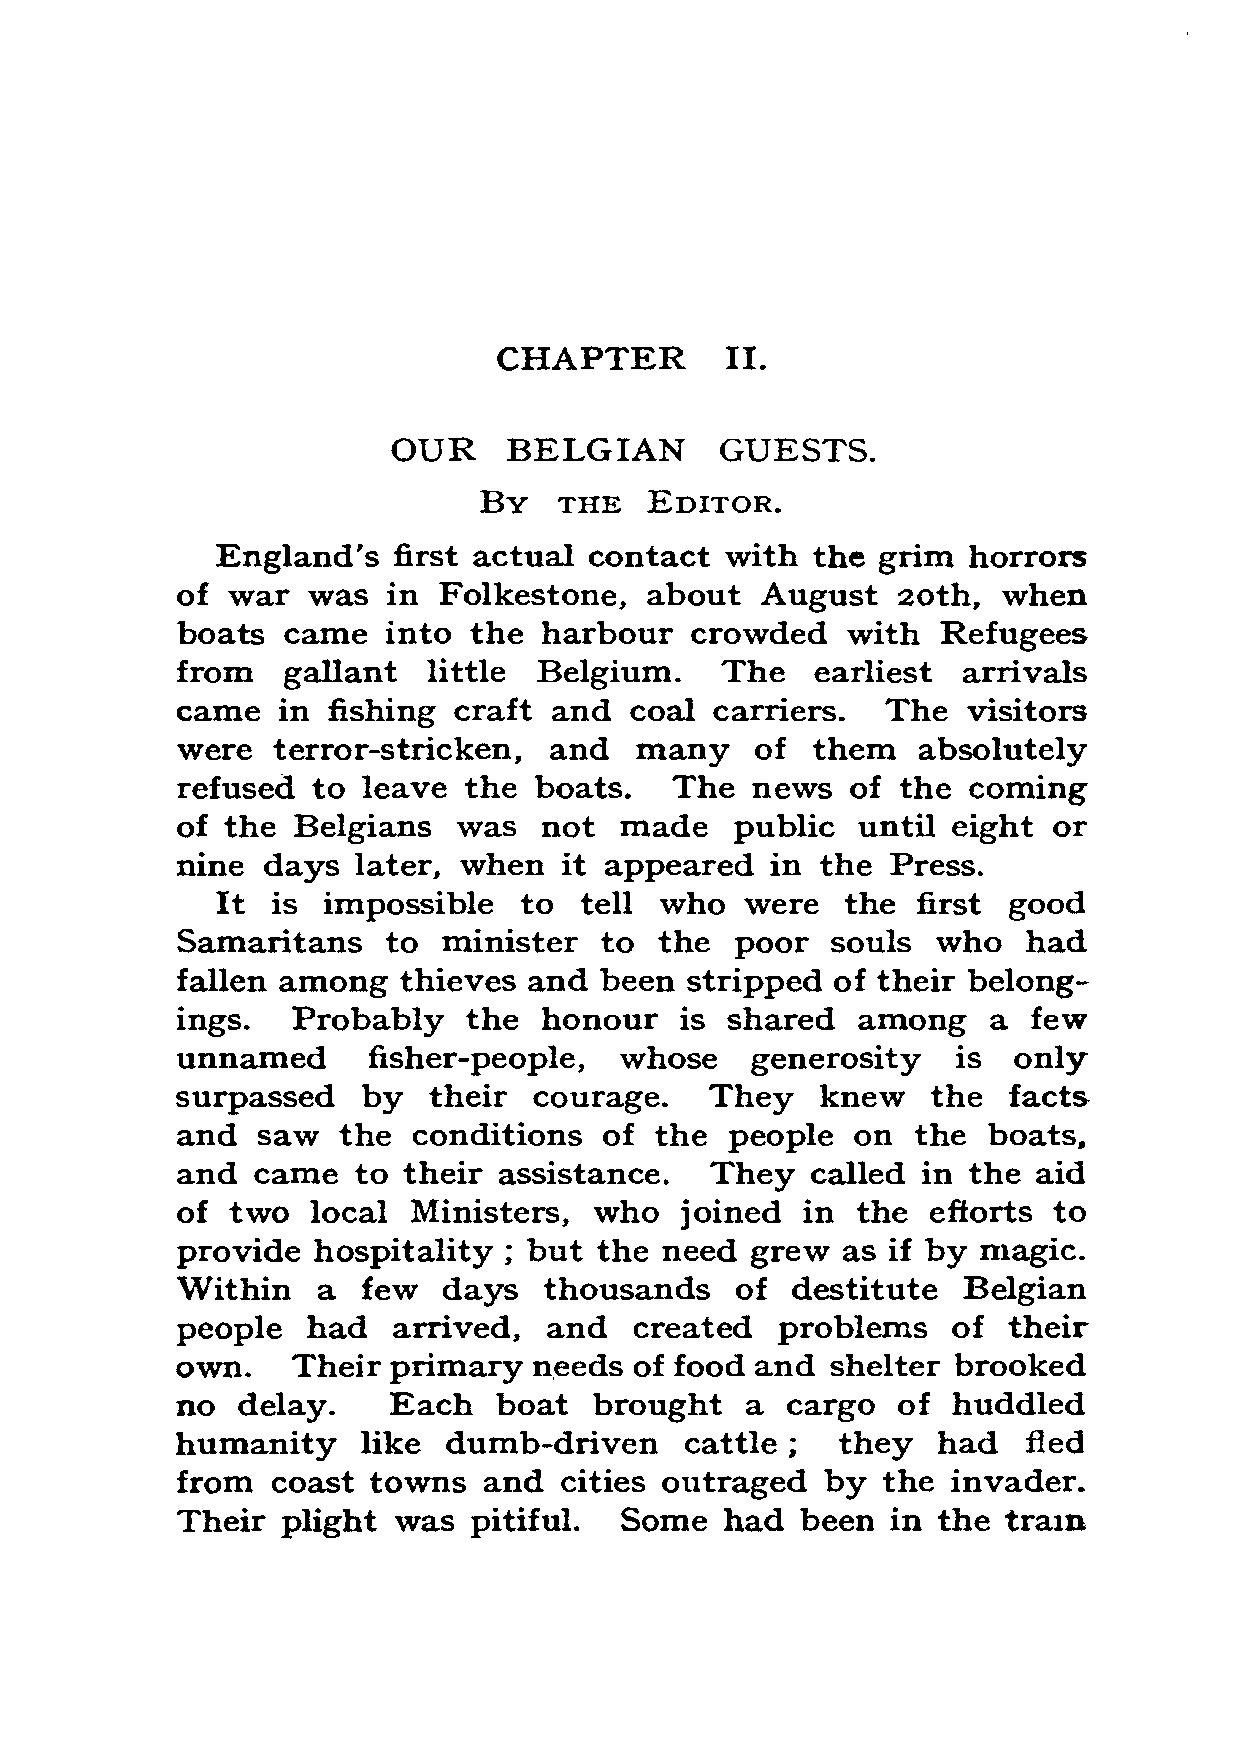chapter: (389, 344, 875, 515)
content: (173, 538, 1088, 1541)
